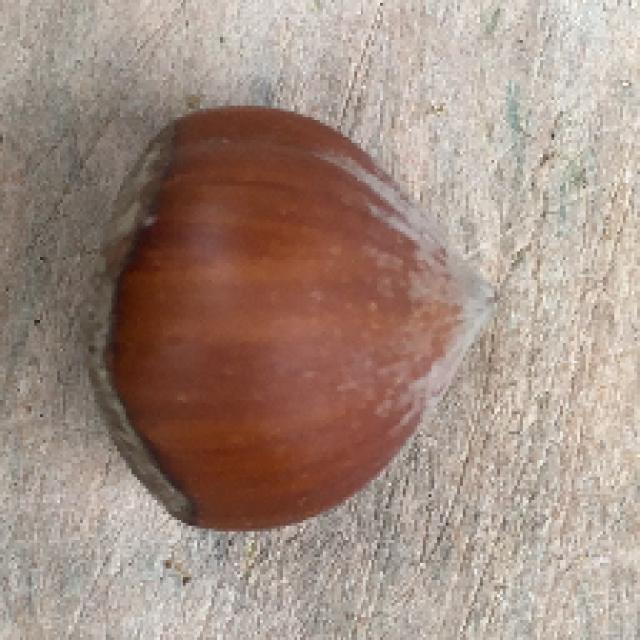QualityHazelnut: (80, 101, 503, 531)
